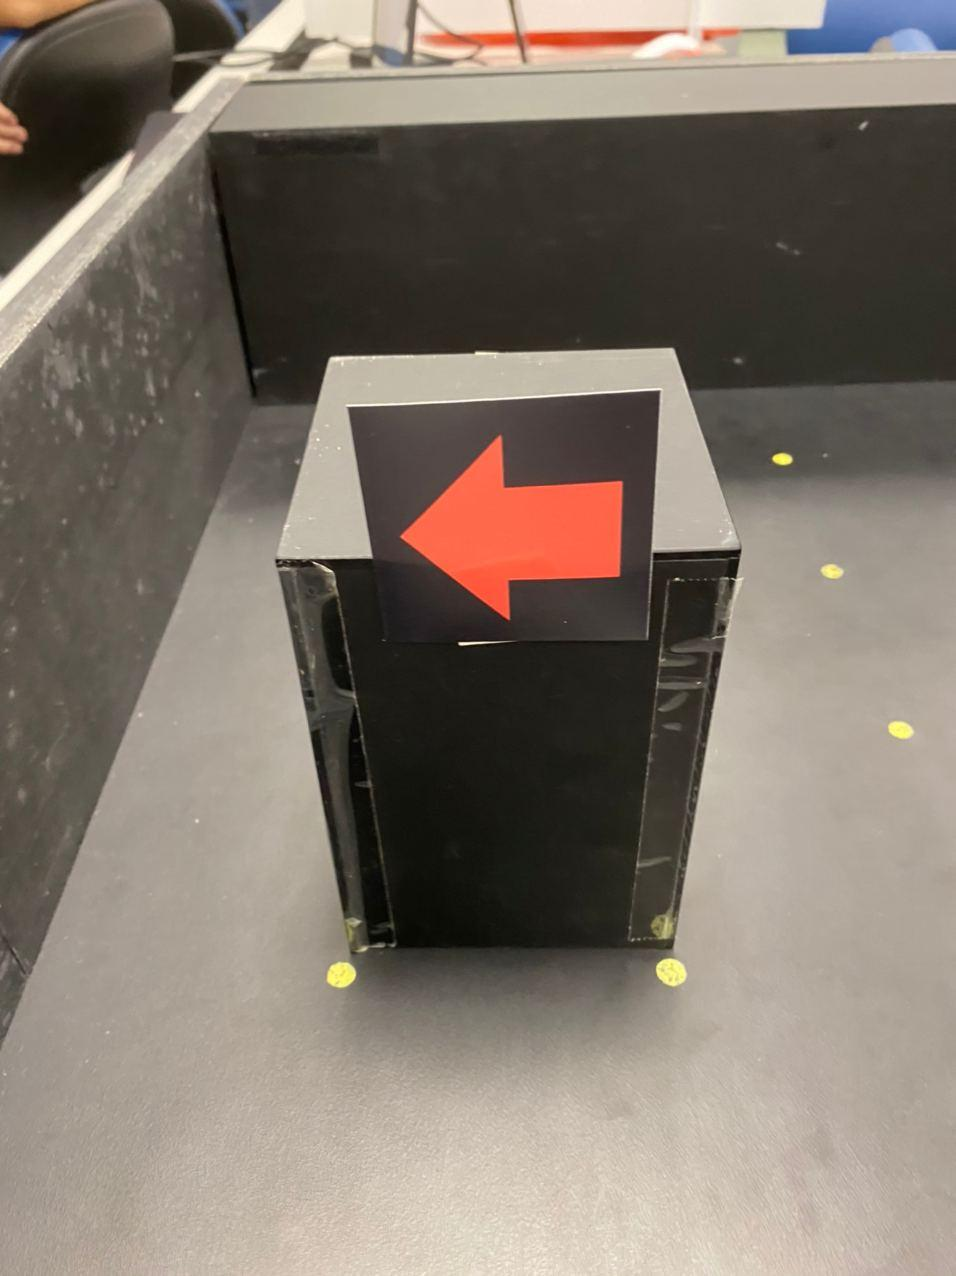left: (403, 438, 619, 626)
